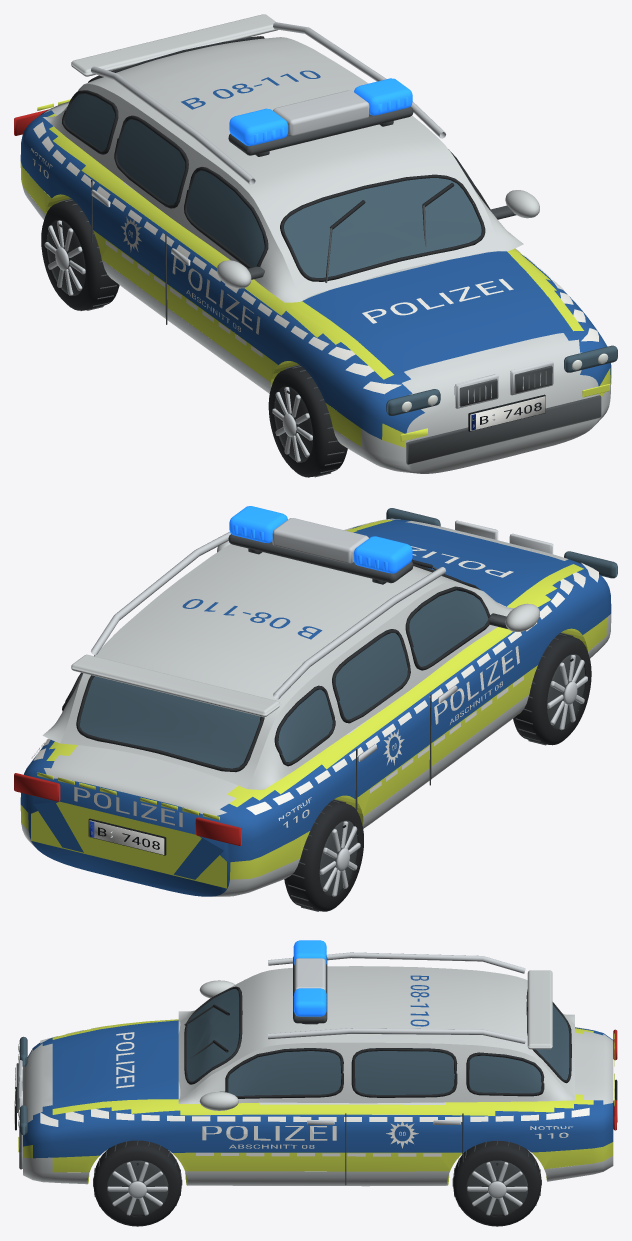
Rendered from police-estate.glb.
3 views of the same model, one above another, from view 1: azimuth 30°, elevation 25°; view 2: azimuth 150°, elevation 25°; view 3: azimuth 270°, elevation 25° (orthographic). The views are drawn at different scales.
Visible parts, largest first — view 1: police-estate_mesh, police-estate__Wheel_FL_mesh, police-estate__Wheel_RL_mesh; view 2: police-estate_mesh, police-estate__Wheel_RL_mesh, police-estate__Wheel_FL_mesh; view 3: police-estate_mesh, police-estate__Wheel_FR_mesh, police-estate__Wheel_RR_mesh.
Part boxes in pixels (x1,y1,x2,y2): police-estate_mesh: (14, 14, 617, 473); police-estate__Wheel_FL_mesh: (268, 365, 347, 477); police-estate__Wheel_RL_mesh: (41, 198, 119, 310); police-estate_mesh: (14, 506, 617, 896); police-estate__Wheel_RL_mesh: (284, 799, 363, 911); police-estate__Wheel_FL_mesh: (513, 632, 591, 745); police-estate_mesh: (14, 940, 617, 1186); police-estate__Wheel_FR_mesh: (93, 1140, 182, 1226); police-estate__Wheel_RR_mesh: (452, 1140, 541, 1226).
Bounding box in the file's own units: 2.17 × 1.72 × 4.58.
